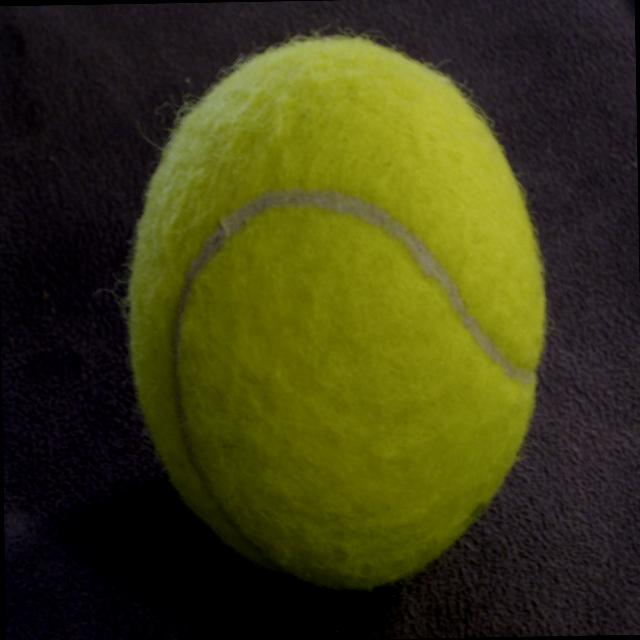Tennis Ball: (118, 21, 556, 597)
